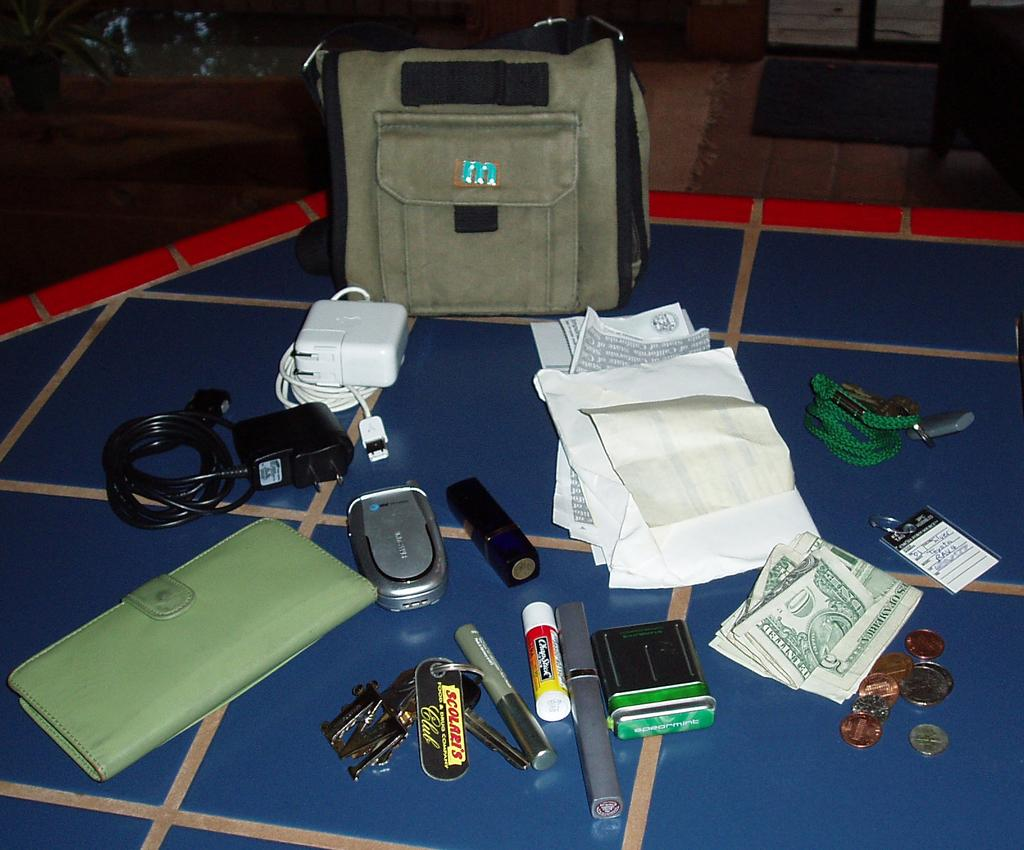Luggage-and-bags: (289, 15, 651, 315)
